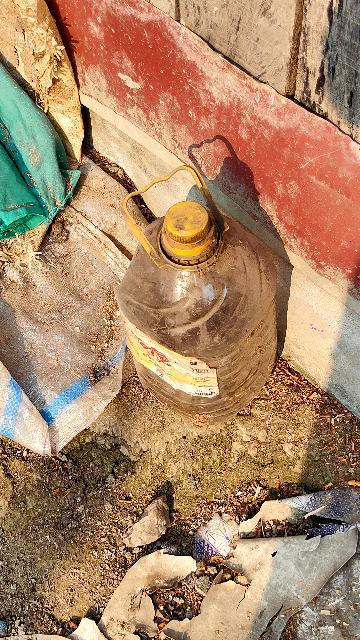bottle: (99, 190, 294, 431)
